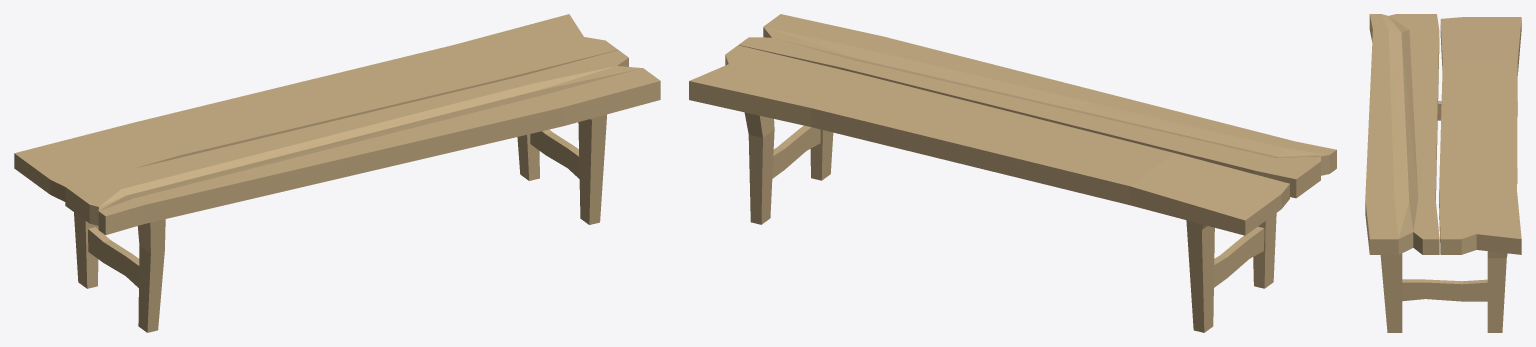
Rendered from bench_Medium_01.fbx.
3 views of the same model, side by side, from view 1: azimuth 30°, elevation 25°; view 2: azimuth 150°, elevation 25°; view 3: azimuth 270°, elevation 25° (orthographic). The views are drawn at different scales.
Visible parts, largest first — view 1: Bench; view 2: Bench; view 3: Bench.
Boxes of the visible parts, x1,y1,x2,y2 form: Bench: [14, 14, 660, 332]; Bench: [689, 14, 1336, 332]; Bench: [1365, 14, 1521, 332].
Size of the model in its own units: 214 by 50.56 by 62.8.
